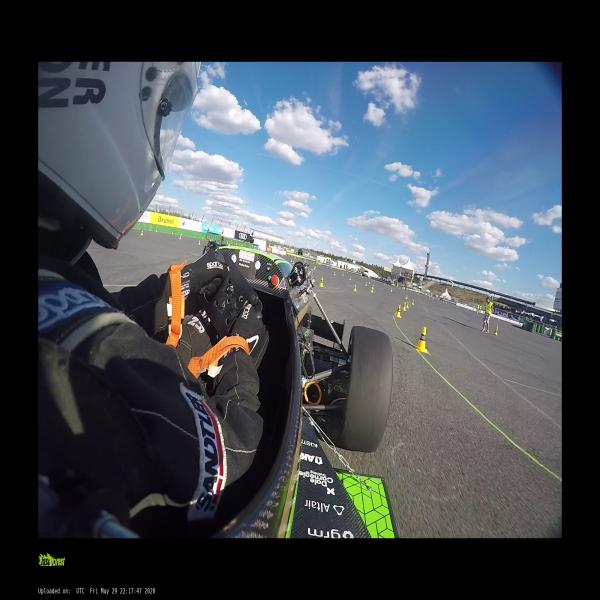yellow_cone: (415, 326, 429, 353), (395, 305, 402, 318), (320, 277, 324, 287), (403, 302, 406, 311), (494, 328, 497, 336), (406, 301, 409, 308), (140, 231, 144, 236), (354, 284, 356, 292), (412, 299, 414, 305), (179, 235, 181, 241), (372, 284, 374, 290), (372, 287, 374, 292), (198, 240, 200, 245), (365, 281, 367, 286), (156, 228, 158, 233), (334, 271, 336, 276), (406, 294, 408, 299), (390, 288, 392, 292), (342, 272, 344, 276), (349, 277, 351, 280), (314, 266, 315, 270), (369, 281, 370, 284), (172, 231, 173, 234)
